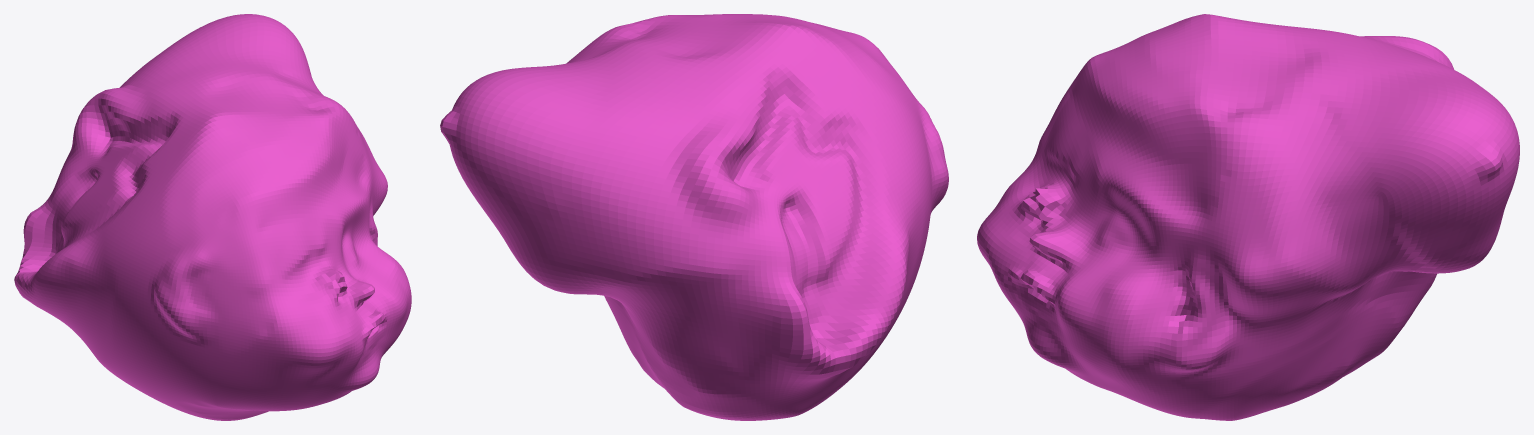
File: dolltit.gltf
The picture shows the model from 3 angles, left to right: view 1: azimuth 30°, elevation 25°; view 2: azimuth 150°, elevation 25°; view 3: azimuth 270°, elevation 25°; orthographic projection. The views are drawn at different scales.
Parts seen in each view (by area): view 1: Quad Sphere; view 2: Quad Sphere; view 3: Quad Sphere.
Part boxes in pixels (x1=…): Quad Sphere: x1=14, y1=14, x2=411, y2=420; Quad Sphere: x1=440, y1=14, x2=948, y2=420; Quad Sphere: x1=977, y1=14, x2=1519, y2=420.
Bounding box in the file's own units: 3.46 × 3.13 × 4.11.
